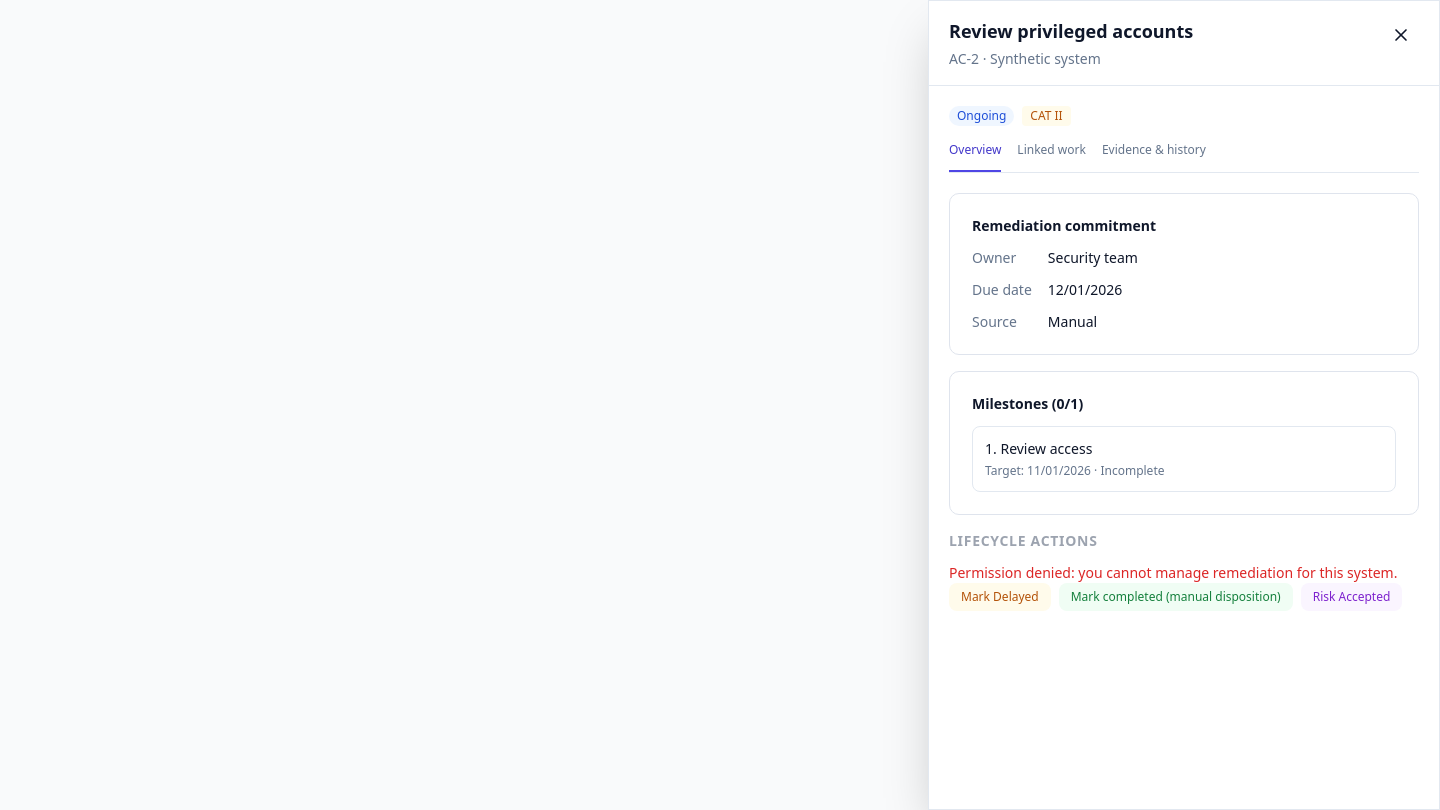
Test: Commitment detail drawer › uses an accessible native drawer and progressively discloses linked work/history
Expected: the text "Initial deadline retained" is not shown
Click the button "Evidence & history" at (1154, 157), box [1102,142,1206,172]
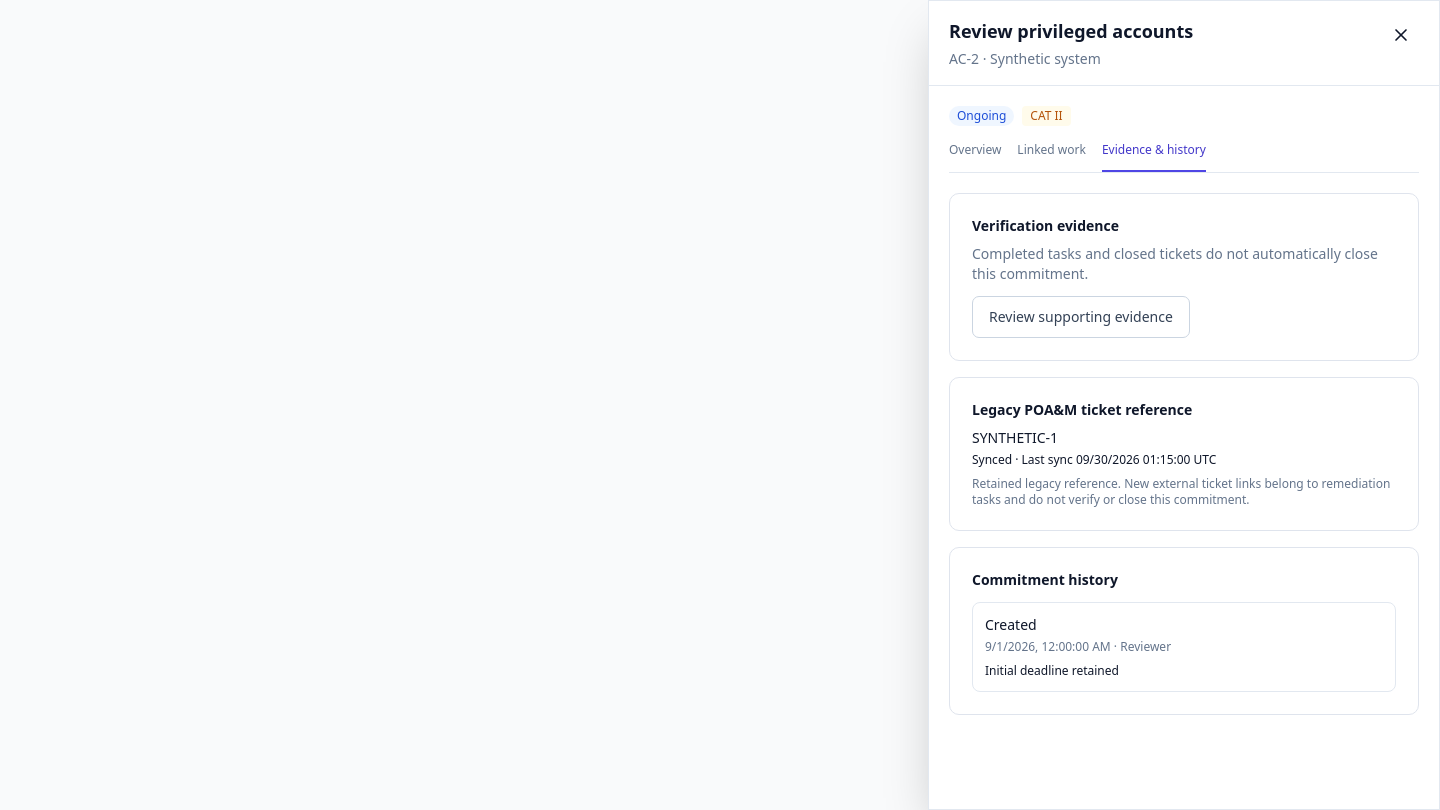
Now the text "Initial deadline retained" is shown, box [985,662,1119,679]
